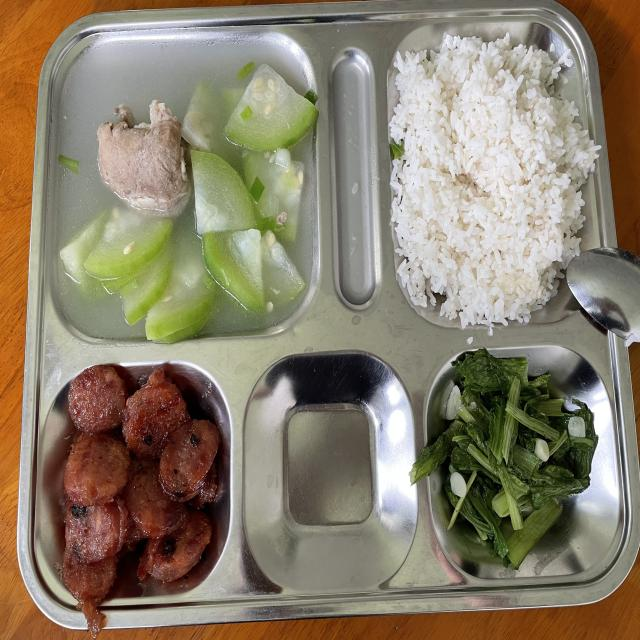canh bau: (56, 39, 318, 343)
com: (389, 33, 600, 334)
rau: (410, 350, 598, 569)
